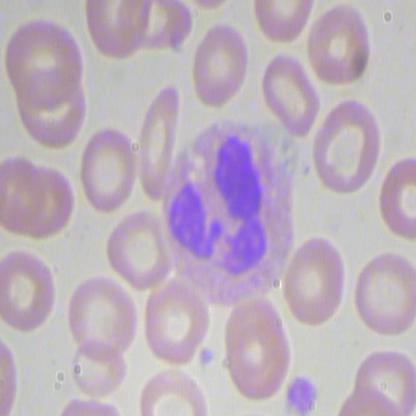Platelets: (284, 369, 320, 415), (196, 347, 219, 367)
RBC: (308, 95, 387, 200), (279, 224, 349, 331), (1, 17, 84, 104), (138, 278, 212, 363), (66, 271, 139, 356), (10, 151, 77, 240), (226, 309, 292, 399), (106, 205, 172, 293), (306, 1, 372, 88), (1, 247, 66, 335), (259, 51, 322, 138), (79, 122, 139, 212), (192, 22, 252, 112), (353, 248, 415, 335), (138, 85, 184, 200), (350, 348, 415, 415), (69, 335, 129, 400)
WBC: (153, 120, 310, 308)
